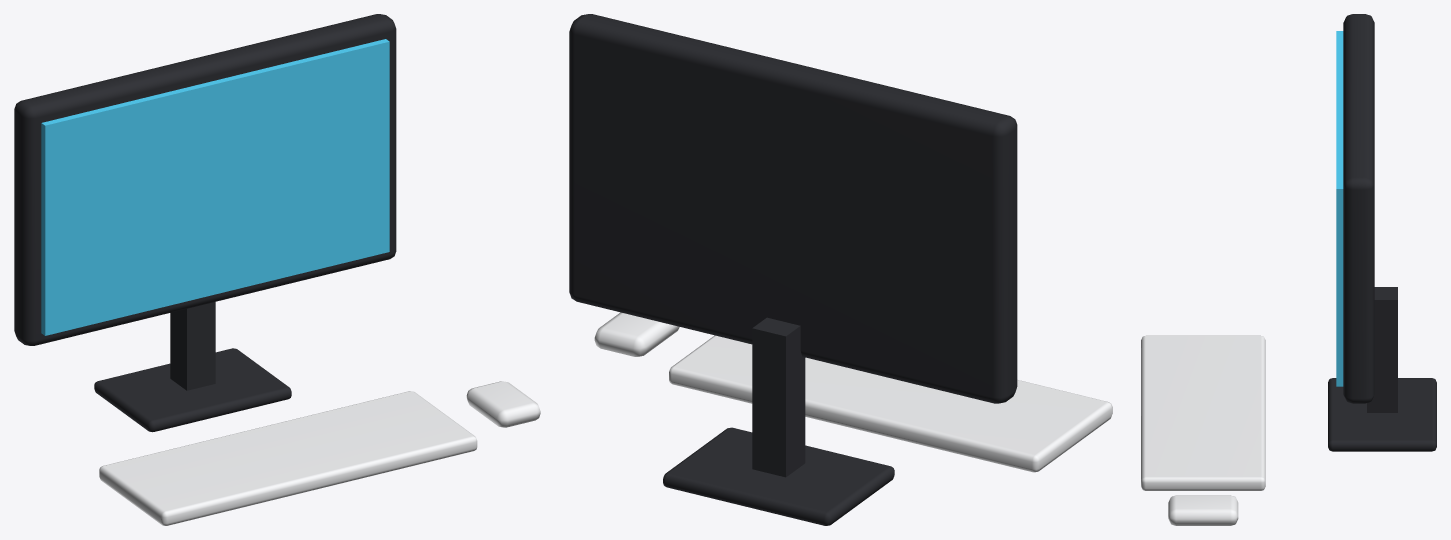
The model's file is Computer.fbx.
3 views of the same model, side by side, from view 1: azimuth 30°, elevation 25°; view 2: azimuth 150°, elevation 25°; view 3: azimuth 270°, elevation 25° (orthographic). The views are drawn at different scales.
Visible parts, largest first — view 1: Computer; view 2: Computer; view 3: Computer.
Boxes of the visible parts, x1,y1,x2,y2 form: Computer: (14,14,540,525); Computer: (569,14,1112,525); Computer: (1141,14,1436,525).
Size of the model in its own units: 2.95 by 2.3 by 1.9.
Materials: 1 (1 with a texture image).
